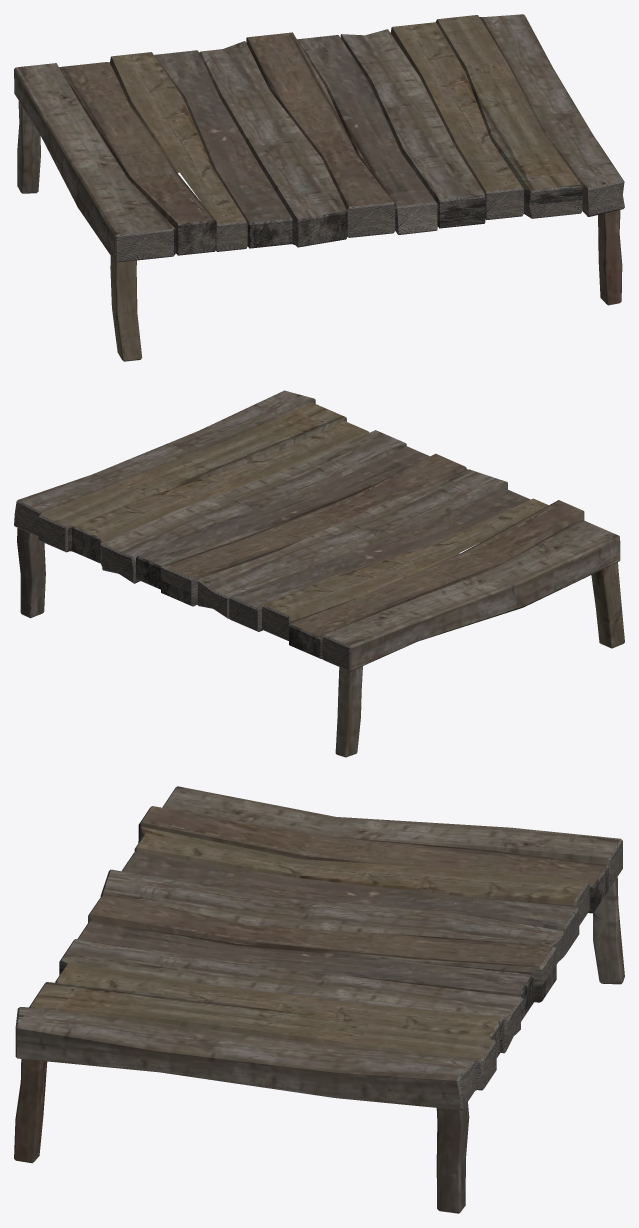
File: Wooden_Bed.glb
The picture shows the model from 3 angles, top to bottom: view 1: azimuth 30°, elevation 25°; view 2: azimuth 150°, elevation 25°; view 3: azimuth 270°, elevation 25°; orthographic projection. The views are drawn at different scales.
Visible parts, largest first — view 1: SM_Wooden_Bed; view 2: SM_Wooden_Bed; view 3: SM_Wooden_Bed.
Boxes of the visible parts, x1,y1,x2,y2 form: SM_Wooden_Bed: (14, 14, 624, 361); SM_Wooden_Bed: (14, 390, 624, 757); SM_Wooden_Bed: (14, 786, 624, 1213).
Bounding box in the file's own units: 3.53 × 0.816 × 3.09.
2 materials, 2 textured.
